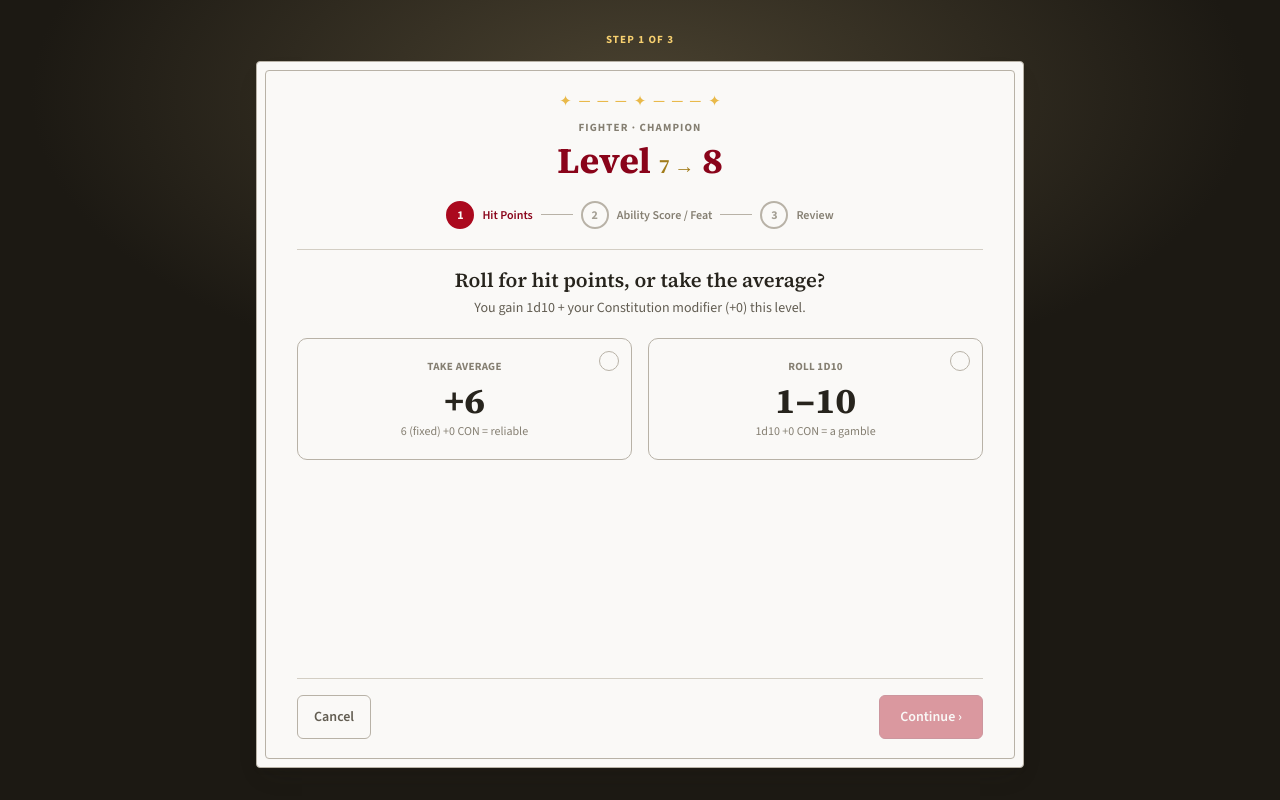
Test: LevelUpCeremony › Continue advances, then disables on a step the draft can't satisfy; Back returns
Expected: the text "Step 1 of 3" is shown, [606, 32, 674, 47]
Expected: the button "Continue ›" is disabled, [879, 695, 983, 739]
Click the button "Take average +6 6 (fixed) +0 CON = reliable" at point(464, 399), box [297, 338, 632, 460]
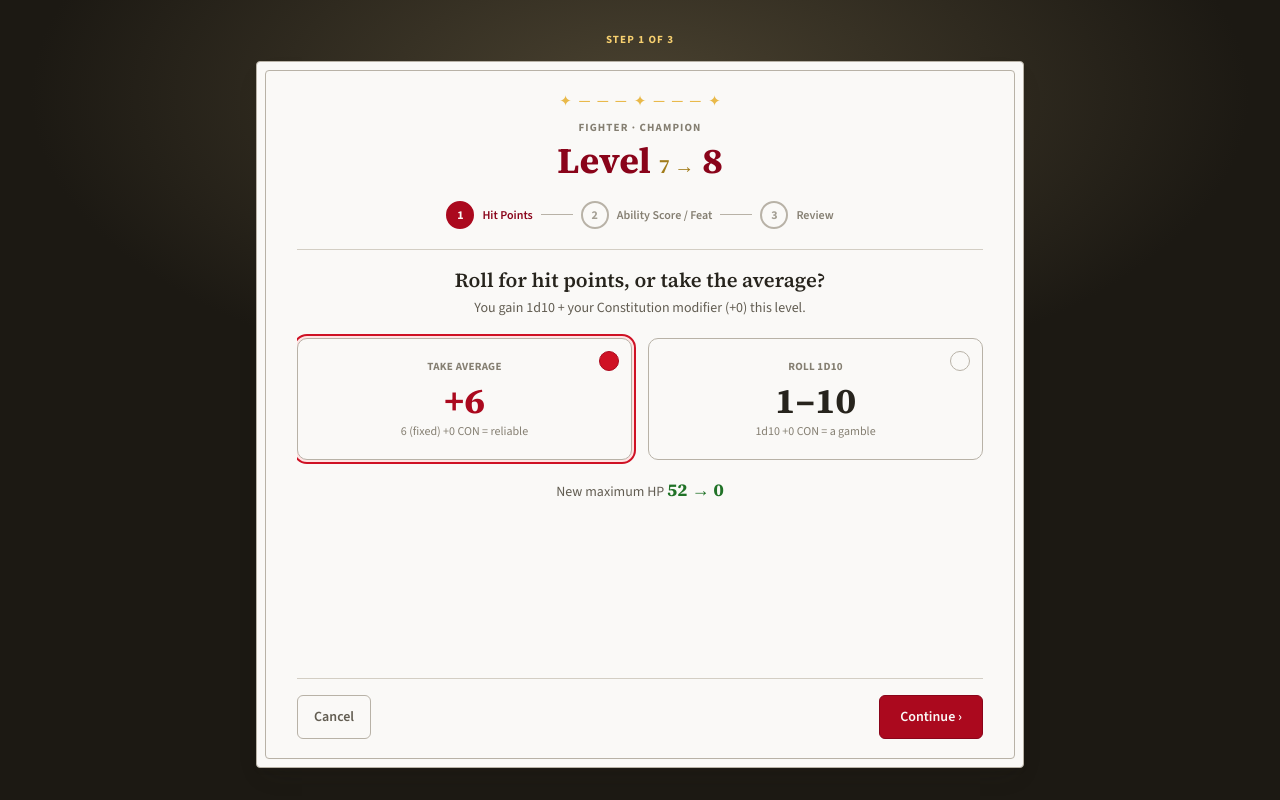
Expected: the button "Continue ›" is enabled
Click the button "Continue ›" at point(931, 717), box [879, 695, 983, 739]
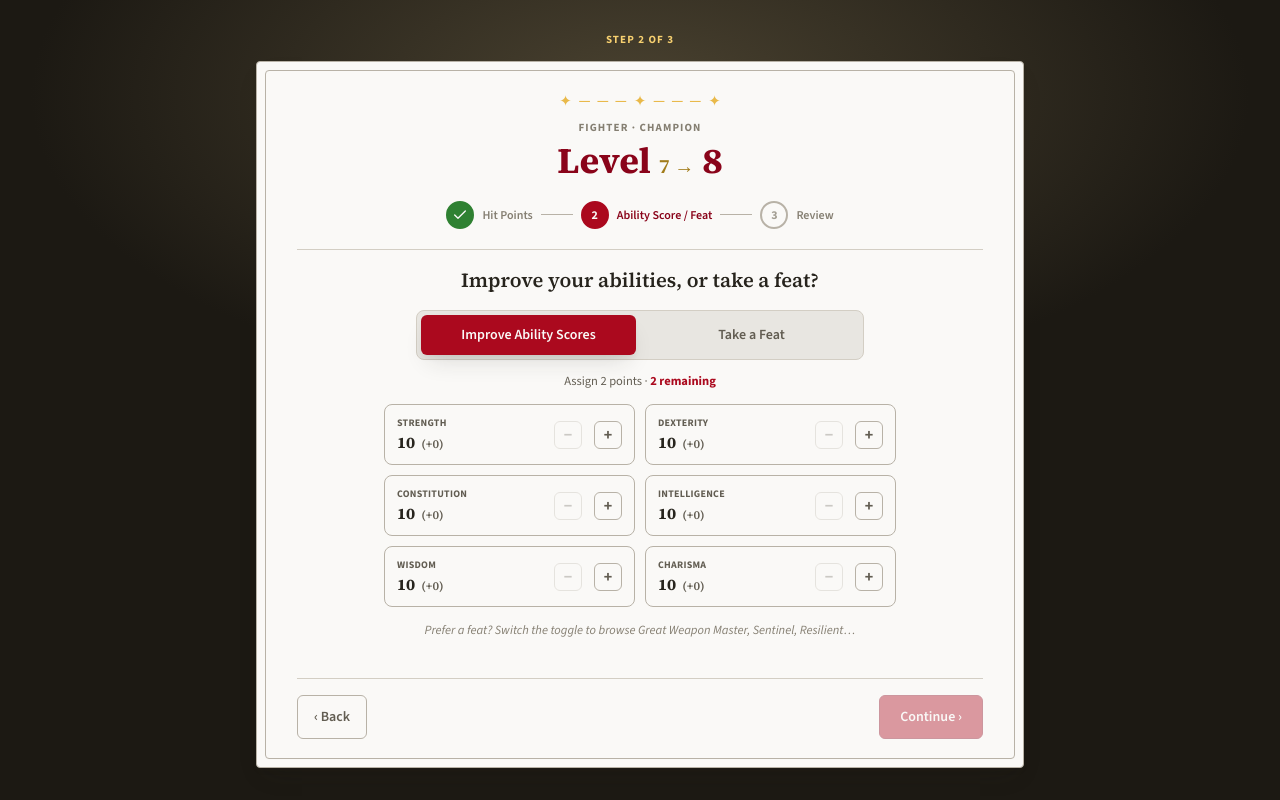
Expected: the text "Step 2 of 3" is shown, [606, 32, 674, 47]
Expected: the button "Continue ›" is disabled, [879, 695, 983, 739]
Click the button "‹ Back" at point(332, 717), box [297, 695, 367, 739]
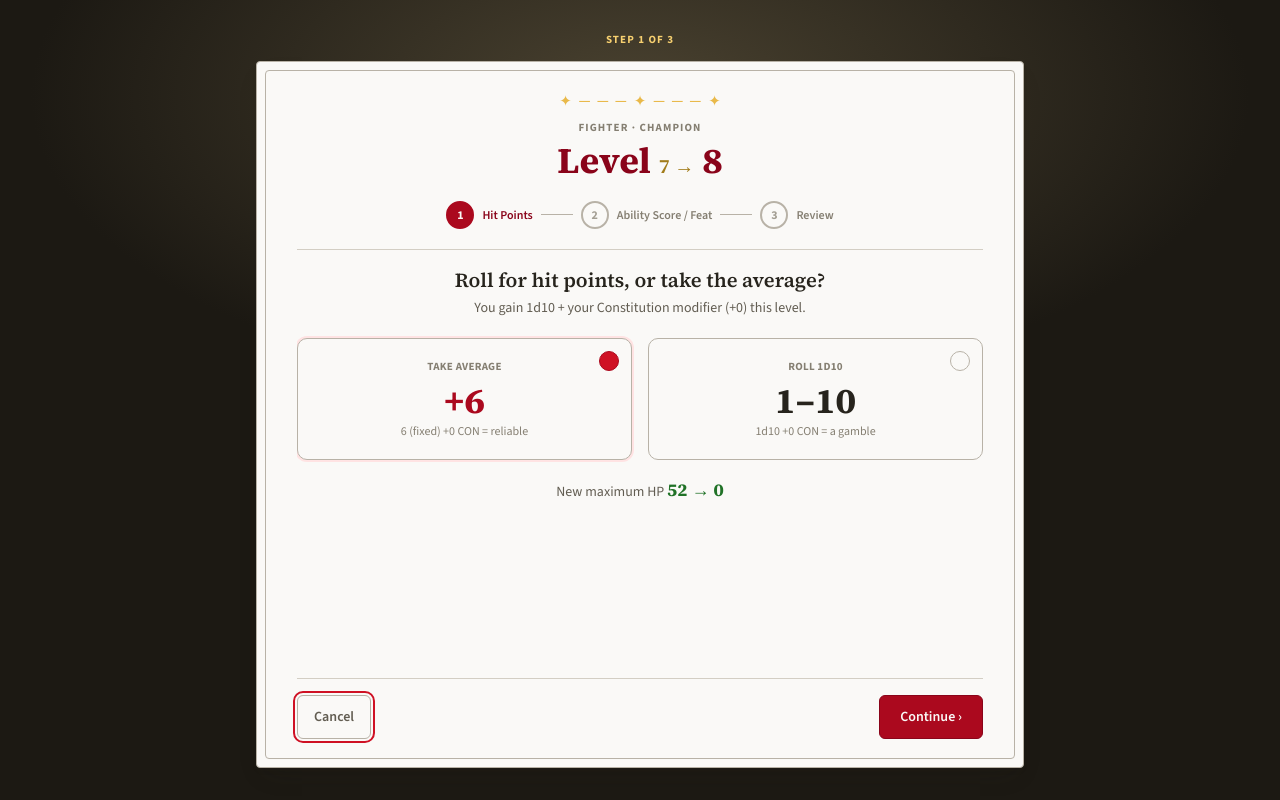
Expected: the text "Step 1 of 3" is shown, [606, 32, 674, 47]
